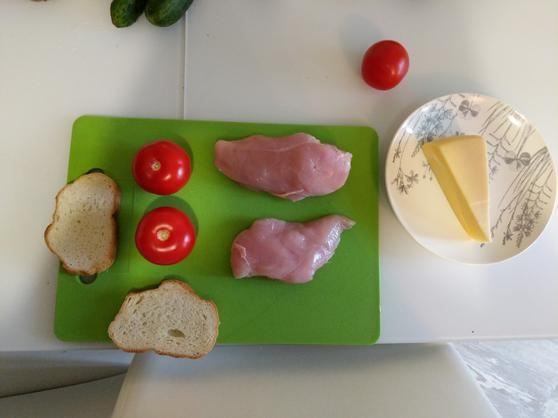cheese: (421, 134, 492, 245)
chicken_fillet: (211, 131, 352, 202), (227, 215, 359, 283)
tomato: (132, 205, 197, 266), (134, 137, 190, 197), (361, 40, 411, 91)
white_bread: (107, 277, 220, 359), (40, 170, 120, 283)
